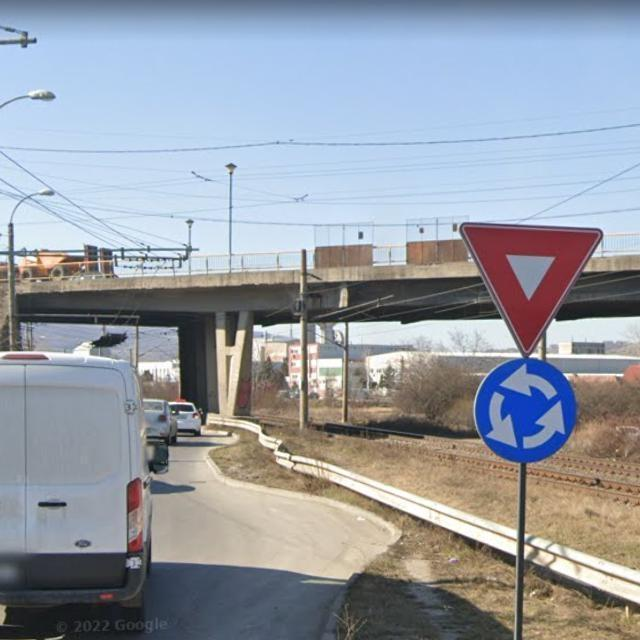prio_give_way: (453, 220, 602, 358)
